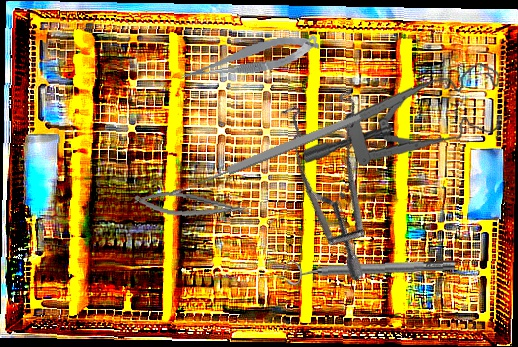Fixation Ring: (286, 253, 456, 286)
Micro Scissor: (177, 31, 322, 85)
Needle Holder: (132, 185, 254, 227)
Speculum: (240, 69, 447, 283), (303, 48, 507, 181)
Surgical Spoon: (168, 110, 364, 200)
